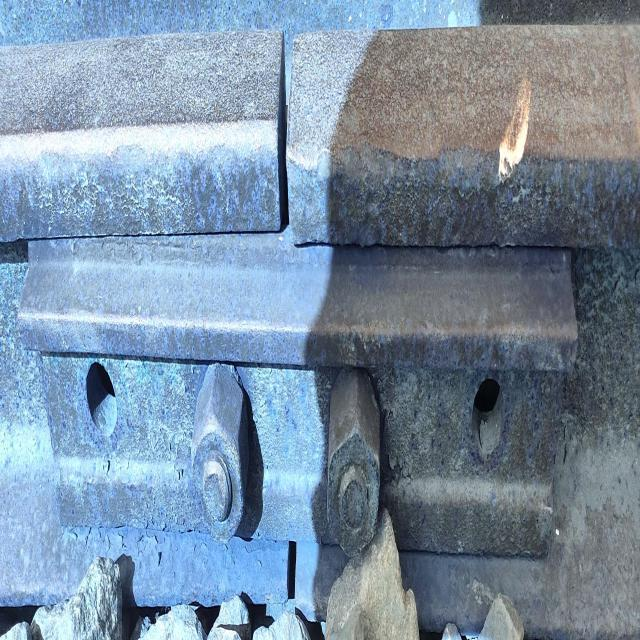railway_join_bar_defects_low: (254, 22, 316, 606)
